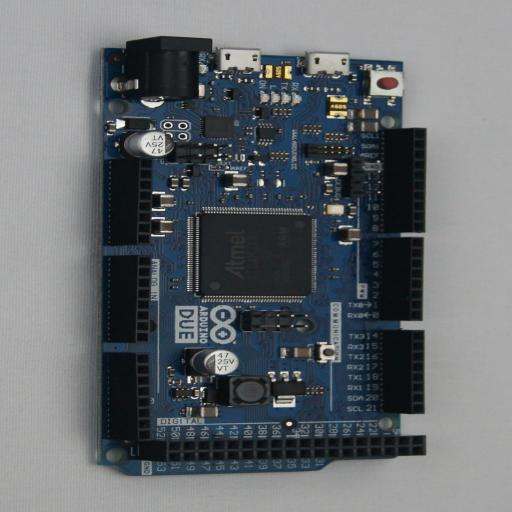Arduino Due: (88, 36, 426, 476)
